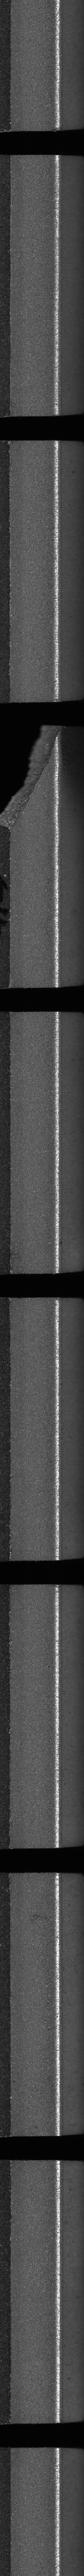Chip: (0, 723, 66, 838)
